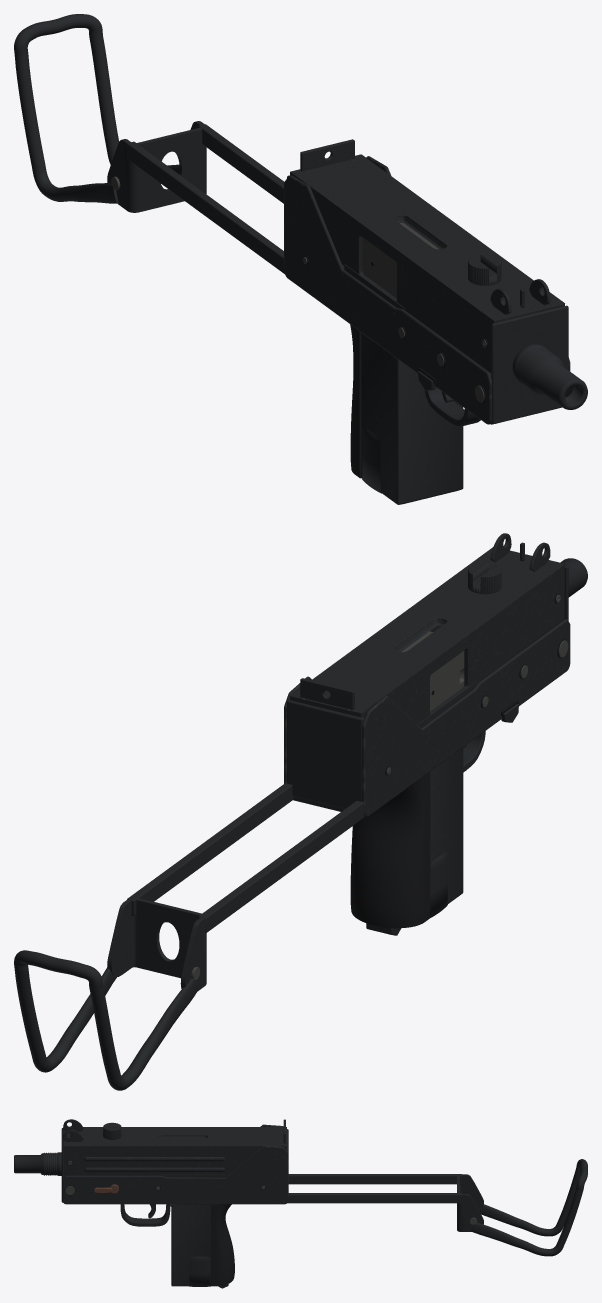
File: SM_MAC10.fbx
3 renders of one model, top to bottom at view 1: azimuth 30°, elevation 25°; view 2: azimuth 150°, elevation 25°; view 3: azimuth 270°, elevation 25°, orthographic. The views are drawn at different scales.
Parts seen in each view (by area): view 1: SM_MAC10; view 2: SM_MAC10; view 3: SM_MAC10.
Boxes of the visible parts, x1=… form: SM_MAC10: x1=14, y1=14, x2=587, y2=504; SM_MAC10: x1=14, y1=533, x2=587, y2=1090; SM_MAC10: x1=14, y1=1119, x2=587, y2=1288.
Size of what is drawn, in the model's own units: 5.61 by 55.8 by 17.21.
